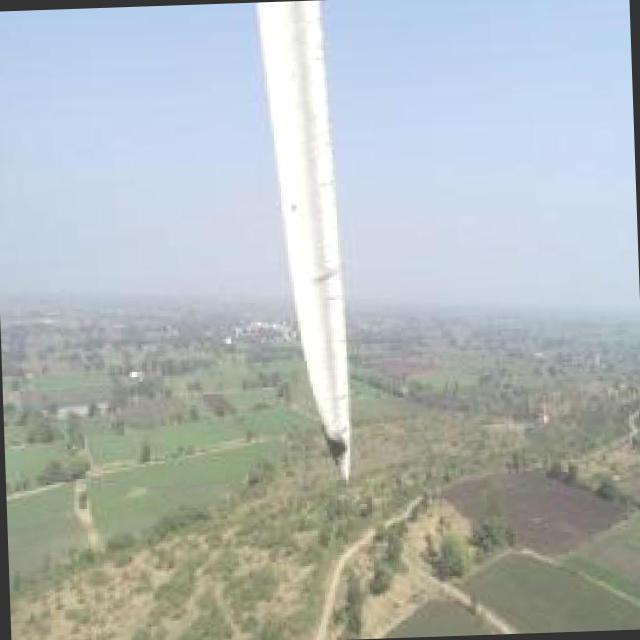Dirt: (259, 0, 354, 479)
Oil LEAKAGE: (324, 433, 350, 469)
Pin Hole: (289, 202, 305, 214)
